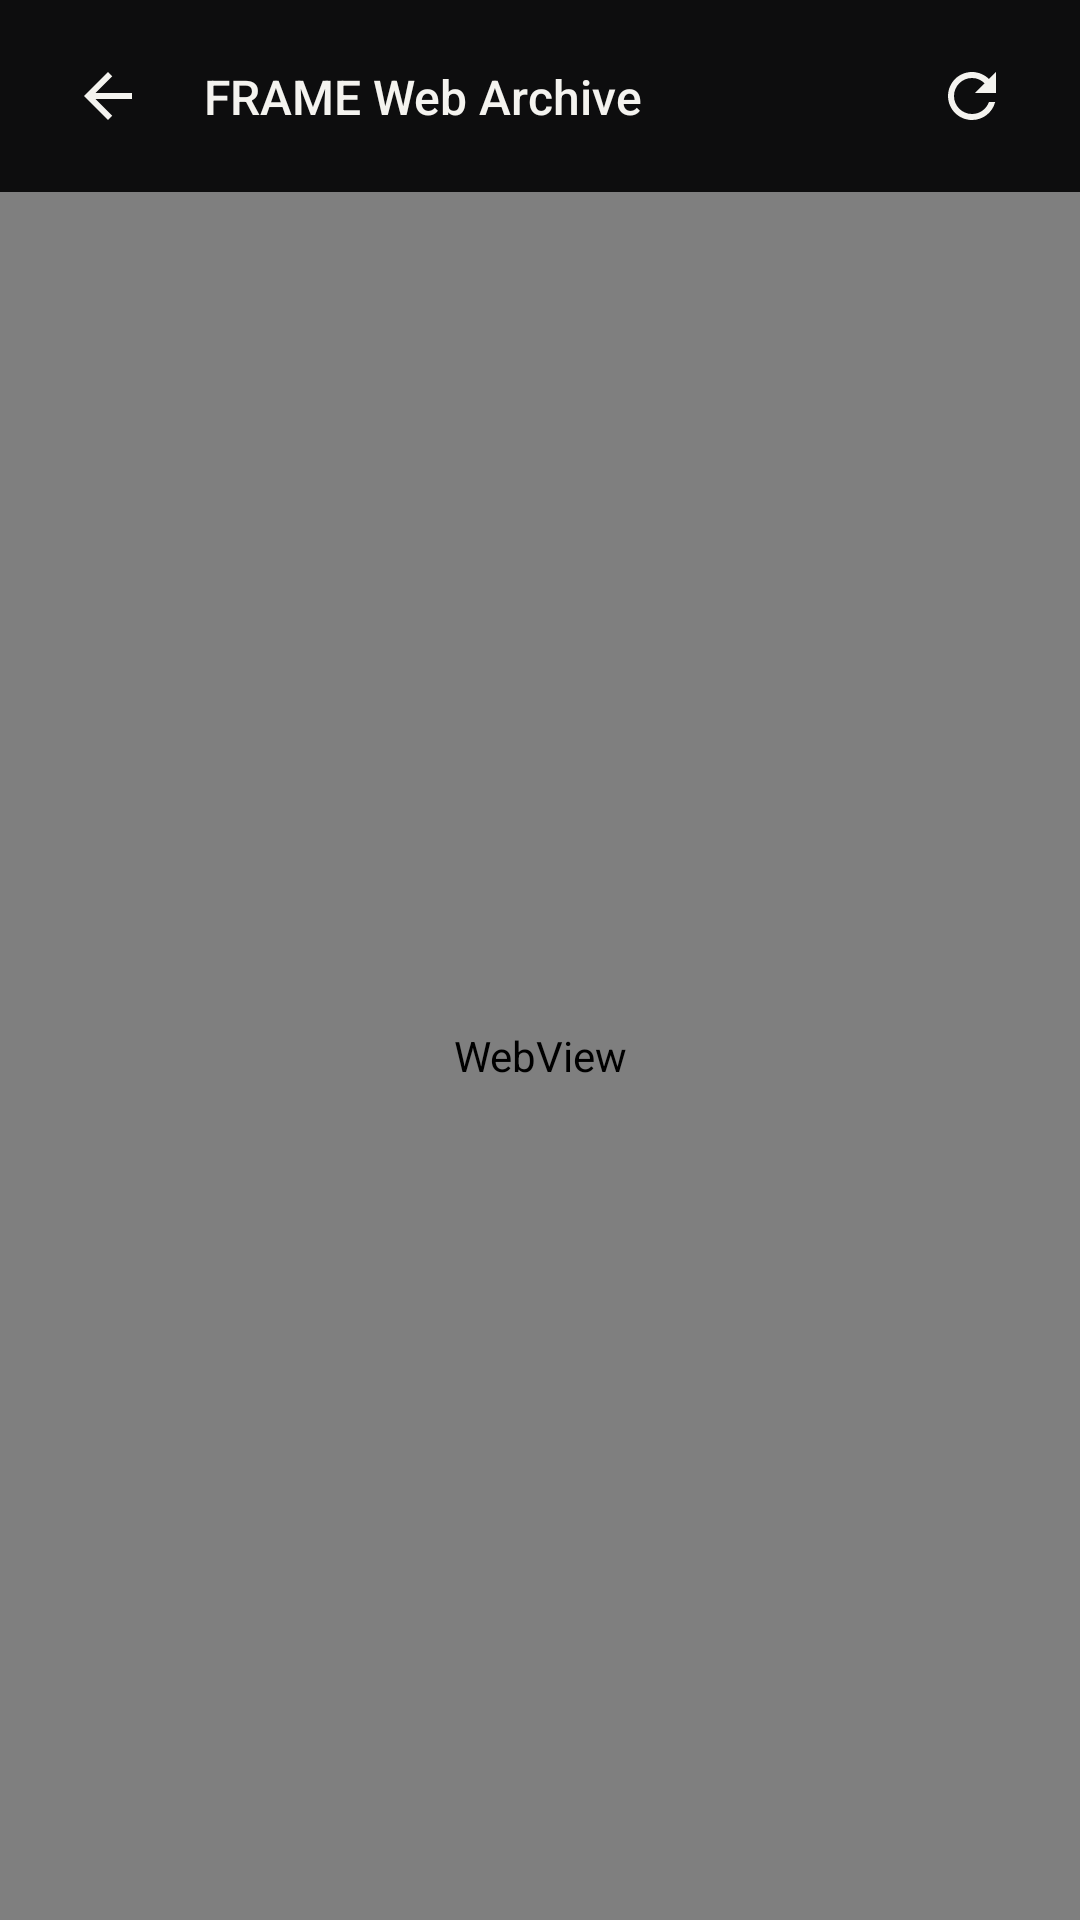

Icon click points for this 1080w x 1920h phone screenshot, format (x,y):
Try Again: (972,96)
